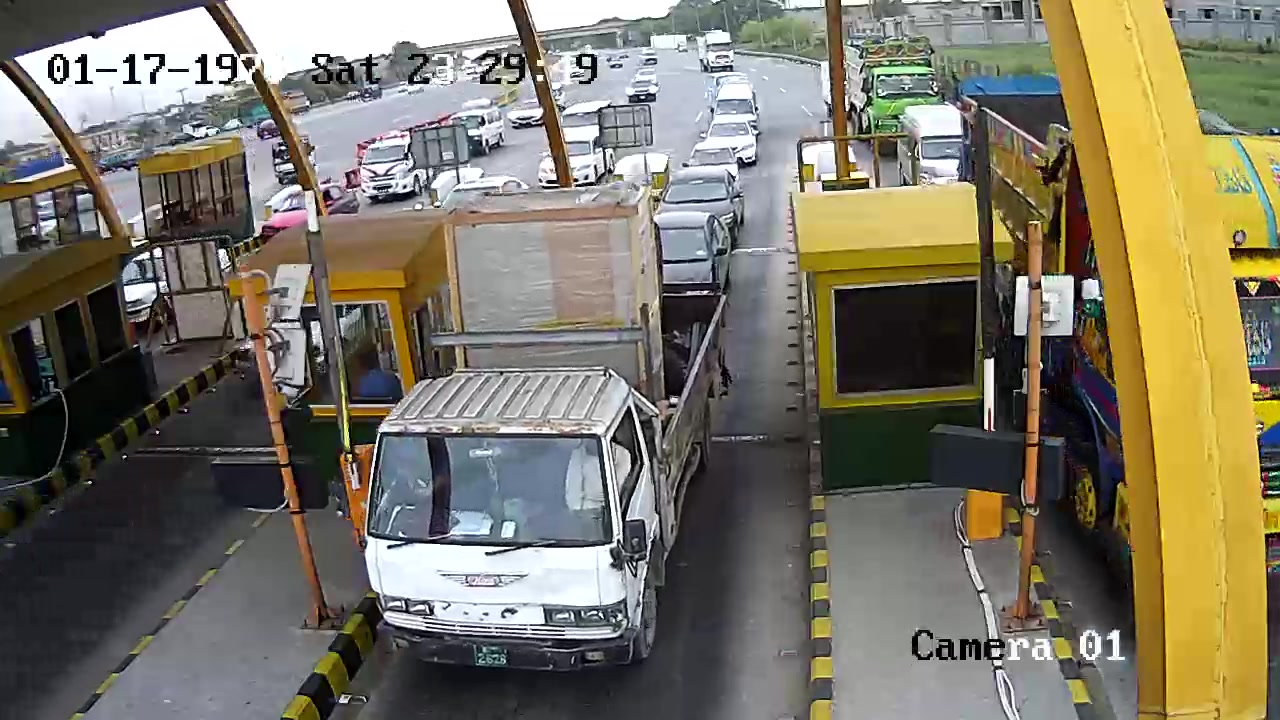F3: (360, 166, 731, 680)
